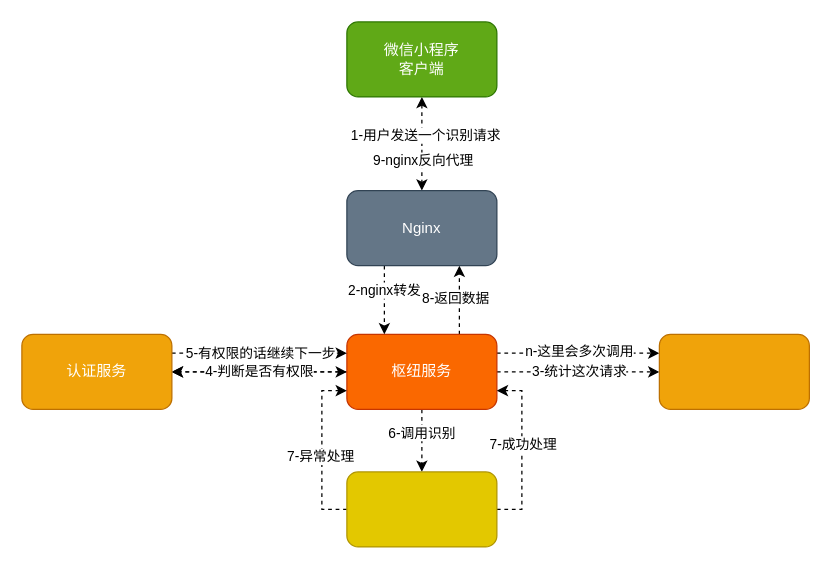
This 831x569 diagram has some shape labels left out. The shapes that lost their labels are listed below. From the top down, each one's box as (x1, y1, x2, y2) in pixels, then its label:
(658, 333, 809, 409): 数据统计日志服务
(346, 471, 497, 547): 宠物识别服务
